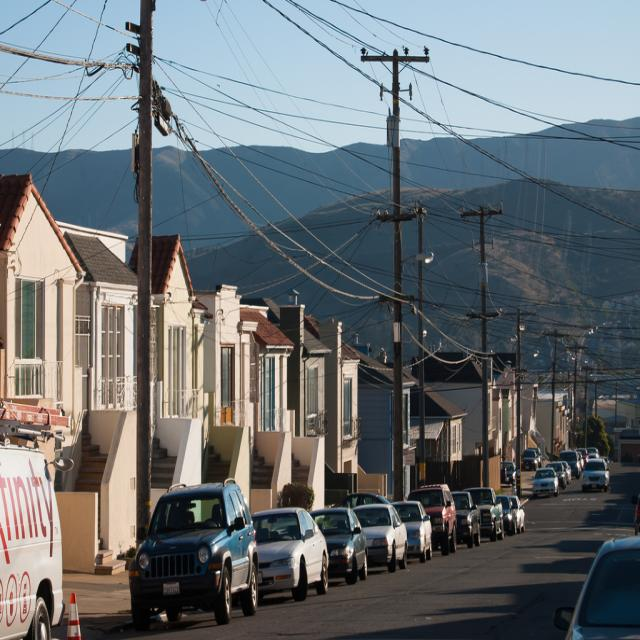car: (124, 472, 259, 626), (546, 445, 591, 485), (577, 454, 609, 489), (531, 458, 556, 496), (522, 448, 538, 469), (530, 441, 540, 463)
